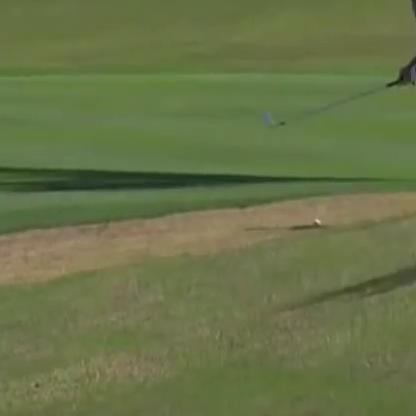golfball: (311, 216, 318, 226)
